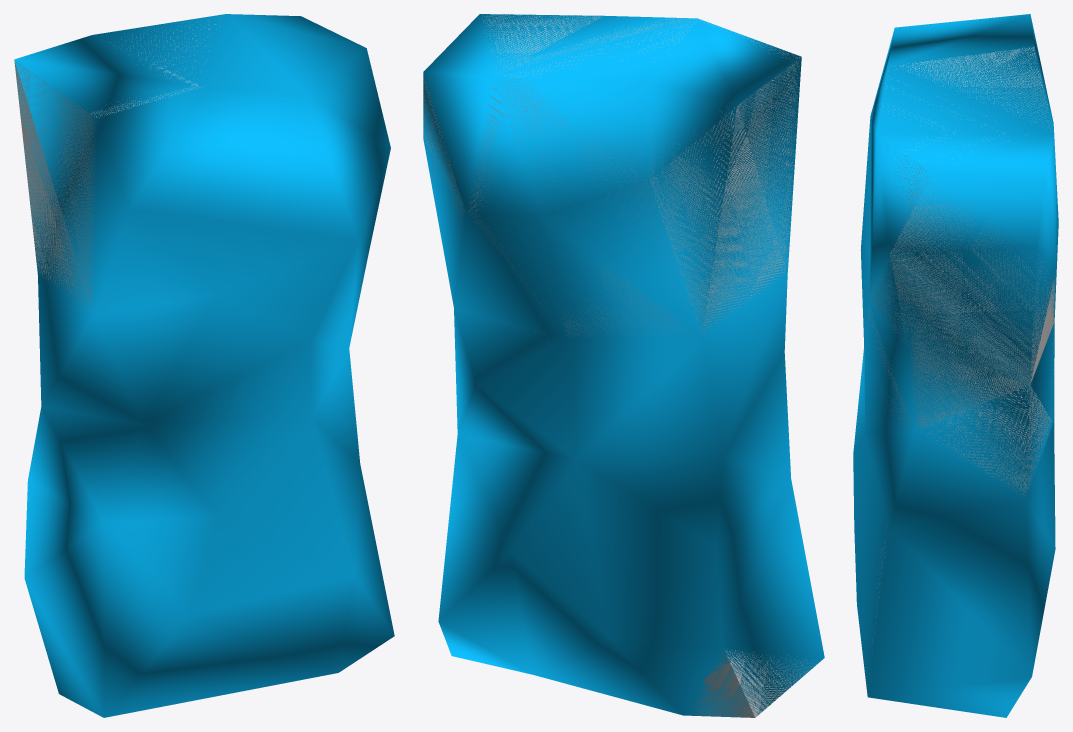
File: PF_Rock_Riser_Henge.glb
The picture shows the model from 3 angles, left to right: view 1: azimuth 30°, elevation 25°; view 2: azimuth 150°, elevation 25°; view 3: azimuth 270°, elevation 25°; orthographic projection. The views are drawn at different scales.
Parts seen in each view (by area): view 1: SM_Rock_Riser_Henge-gcc-stone, SM_Rock_Riser_Henge; view 2: SM_Rock_Riser_Henge-gcc-stone, SM_Rock_Riser_Henge; view 3: SM_Rock_Riser_Henge-gcc-stone, SM_Rock_Riser_Henge.
Boxes of the visible parts, bbox=[...] form: SM_Rock_Riser_Henge-gcc-stone: bbox=[14, 14, 394, 717]; SM_Rock_Riser_Henge: bbox=[14, 20, 215, 307]; SM_Rock_Riser_Henge-gcc-stone: bbox=[423, 14, 824, 717]; SM_Rock_Riser_Henge: bbox=[423, 14, 816, 717]; SM_Rock_Riser_Henge-gcc-stone: bbox=[853, 14, 1058, 717]; SM_Rock_Riser_Henge: bbox=[869, 47, 1055, 642].
Bounding box in the file's own units: 5.84 × 11.44 × 3.67.
